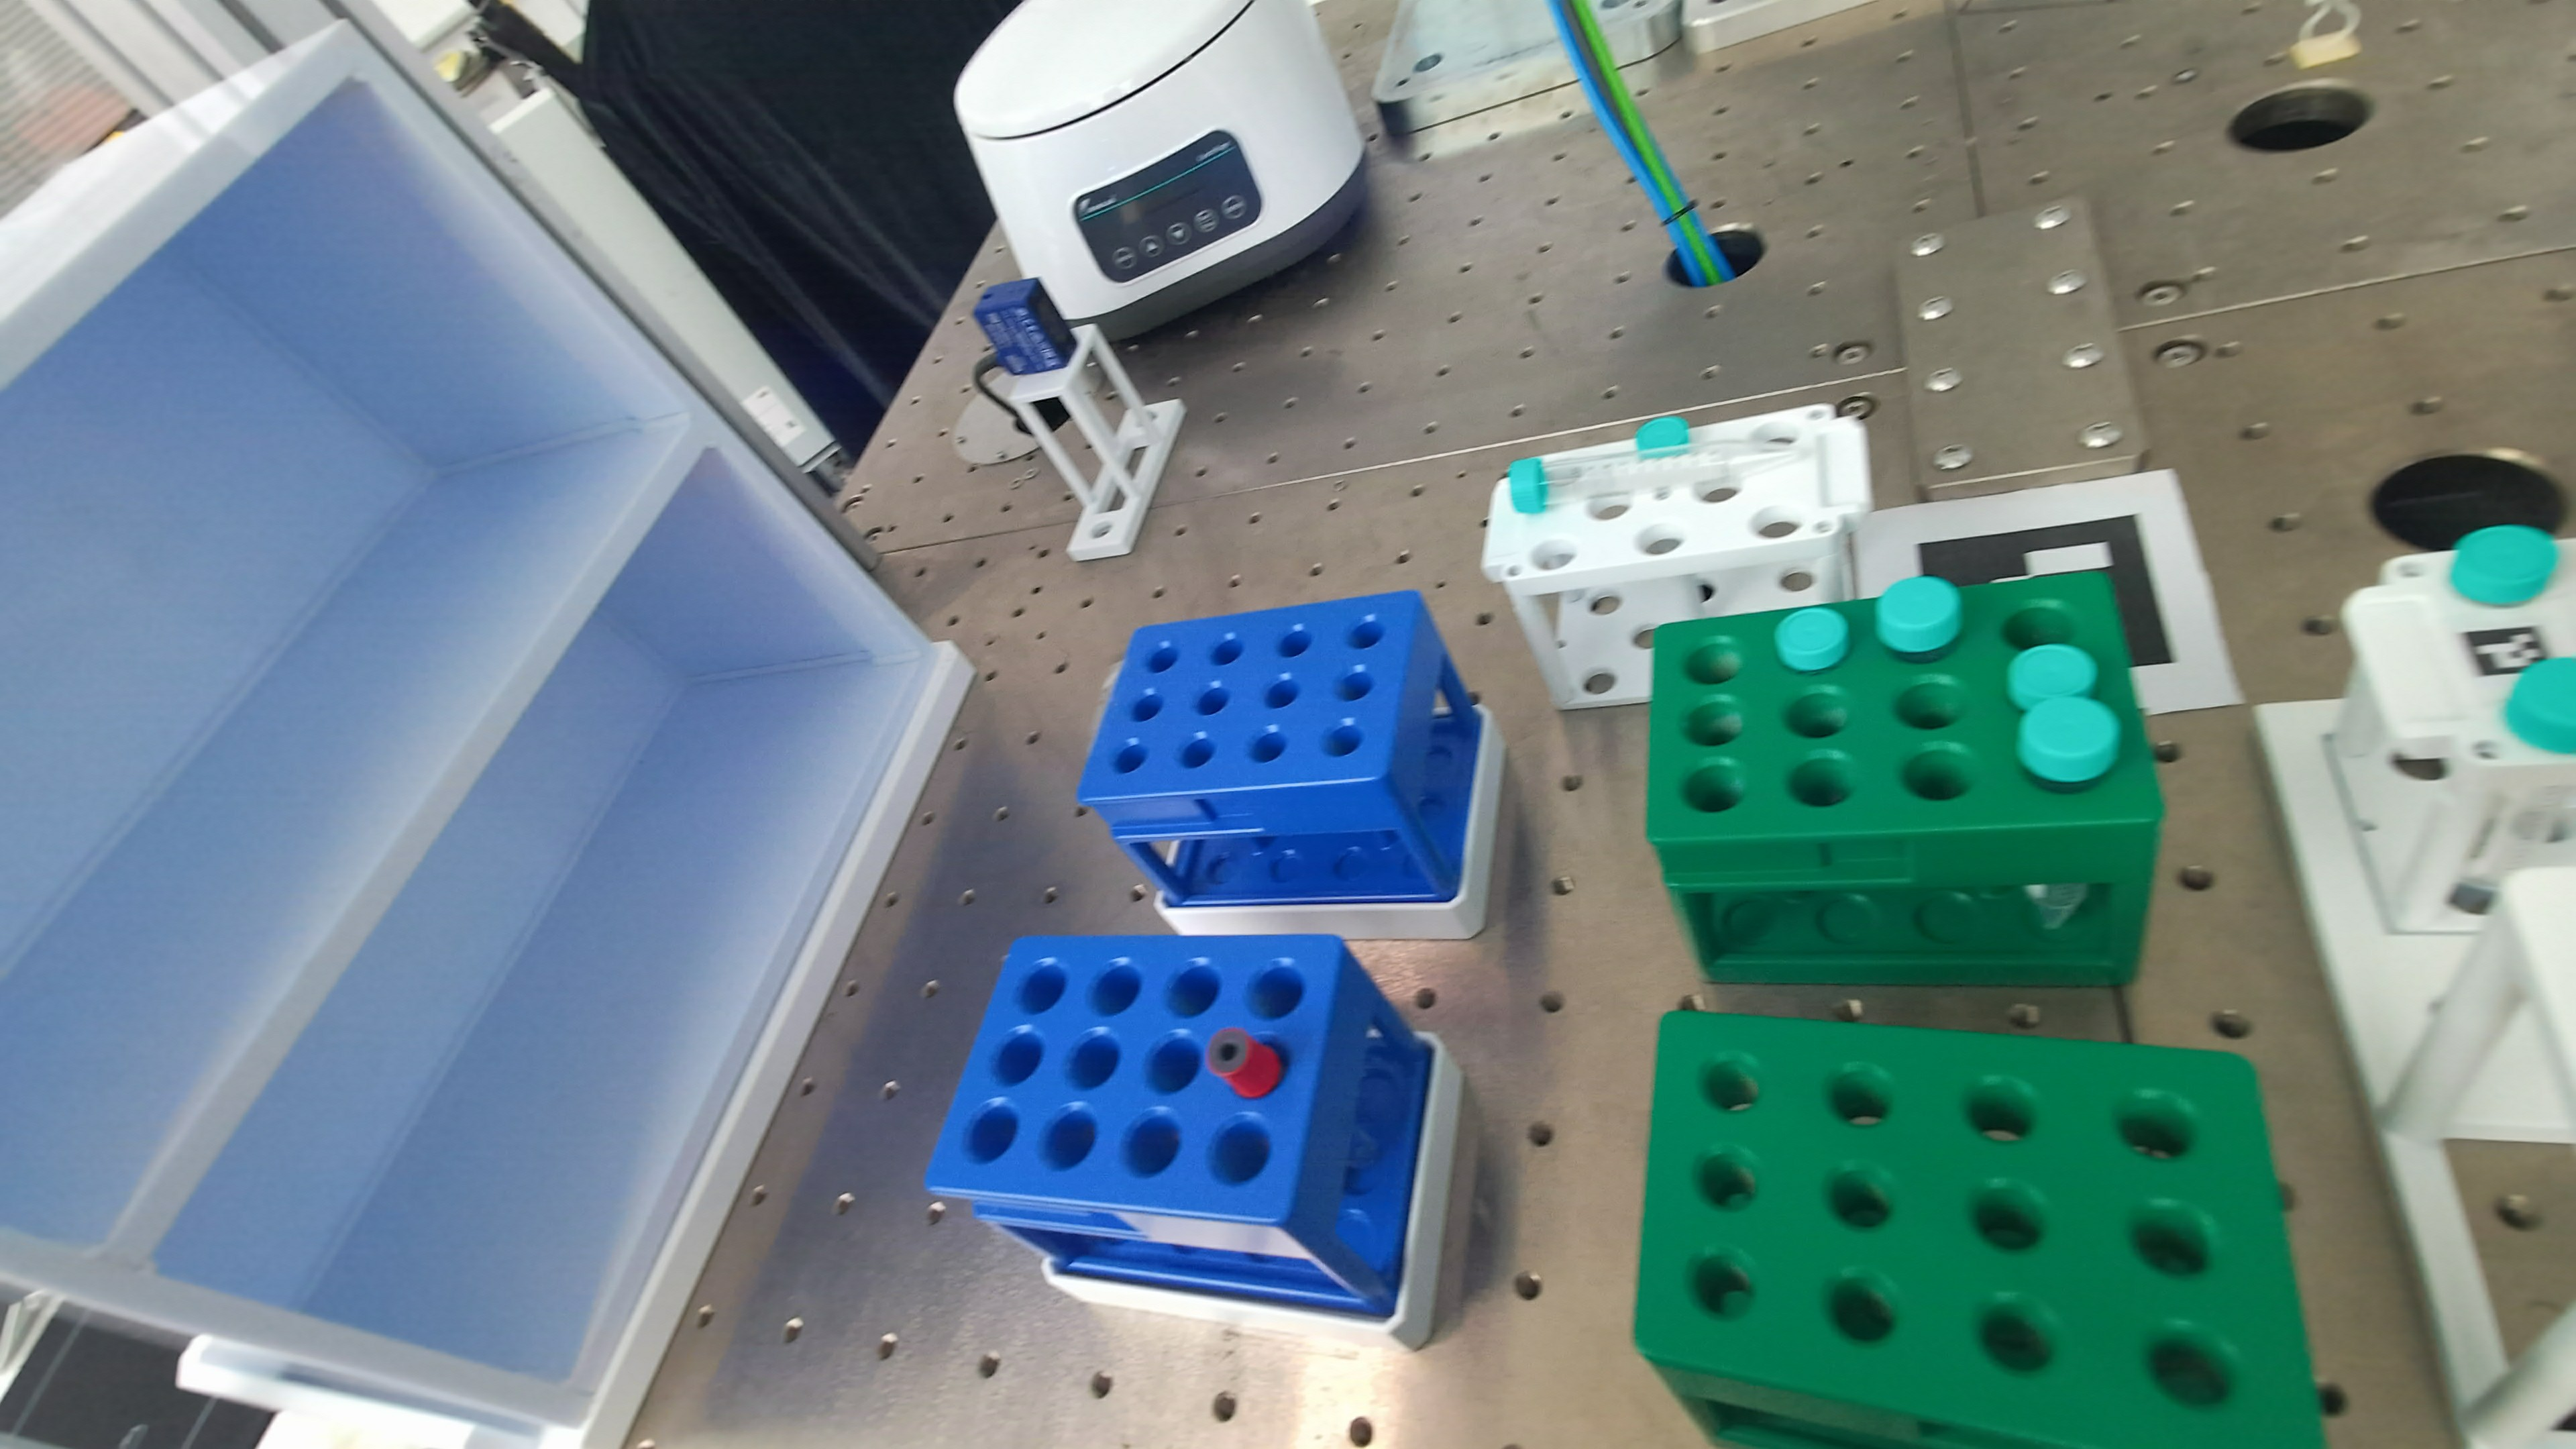10ML_centrifuge_tube: (2454, 656, 2576, 911), (1509, 444, 1787, 513), (2017, 695, 2121, 786), (1875, 577, 1962, 655)
10ML_sorting_tube_rack: (925, 936, 1431, 1316), (1079, 591, 1481, 904)
5ML_centrifuge_tube: (2449, 525, 2560, 605), (2006, 644, 2098, 711), (1775, 609, 1849, 672), (1635, 416, 1690, 456)
5ML_sorting_tube_rack: (1635, 1014, 2319, 1445), (1647, 571, 2162, 985)
blood_tube: (1207, 1028, 1283, 1099)
centrifuge_close: (955, 0, 1364, 338)
dispensing_tube_rack: (2258, 564, 2576, 1444), (1483, 487, 1852, 708)
sorting_tube_rack_base: (1044, 1039, 1463, 1350), (1155, 708, 1504, 939)
tube_rack_storage_cabinet: (0, 25, 966, 1444)
